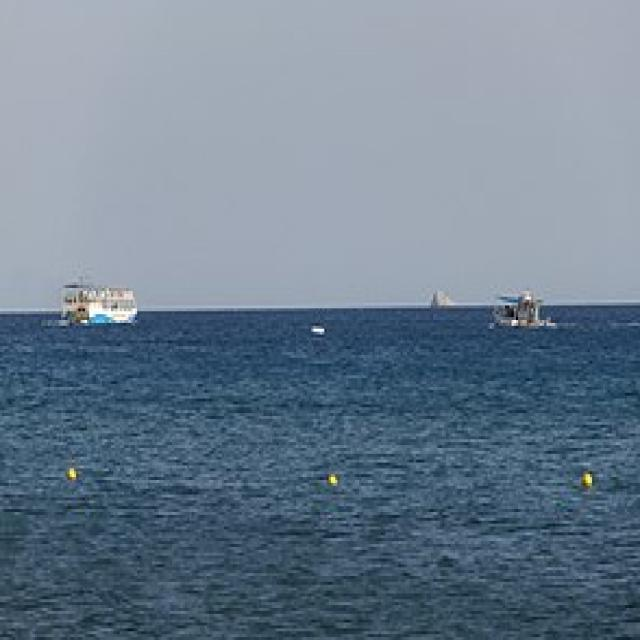buoy: (60, 454, 100, 505), (573, 472, 612, 503), (321, 454, 339, 502)
houseboat: (54, 266, 135, 329)
